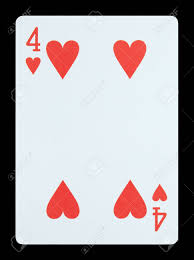four of hearts: (15, 16, 177, 244)
